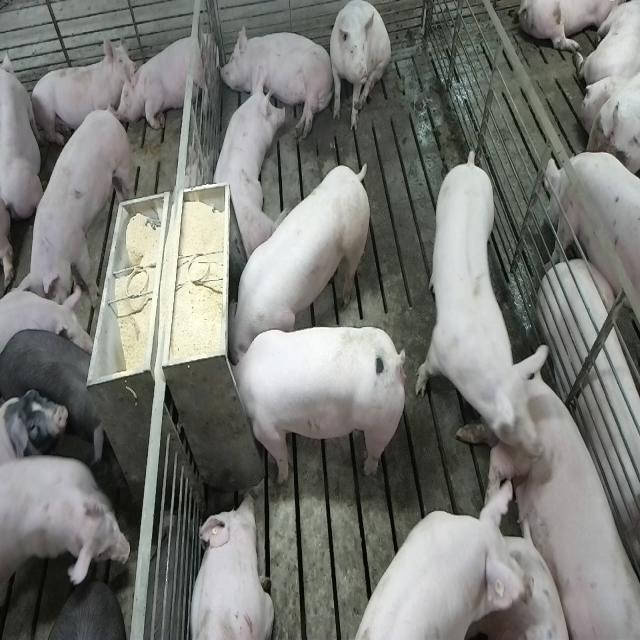Feeding: (228, 160, 376, 360), (222, 324, 400, 484)
Lateral_lying: (476, 366, 636, 640), (218, 20, 334, 138)
Sitting: (328, 2, 391, 134)
Standing: (419, 147, 555, 474), (348, 502, 528, 640), (18, 103, 132, 315), (2, 456, 132, 640), (546, 155, 640, 347), (3, 326, 103, 436), (0, 287, 92, 363), (25, 582, 125, 640)
Sternal_lying: (208, 70, 284, 258), (188, 490, 275, 640), (28, 38, 136, 153), (124, 27, 218, 134)
